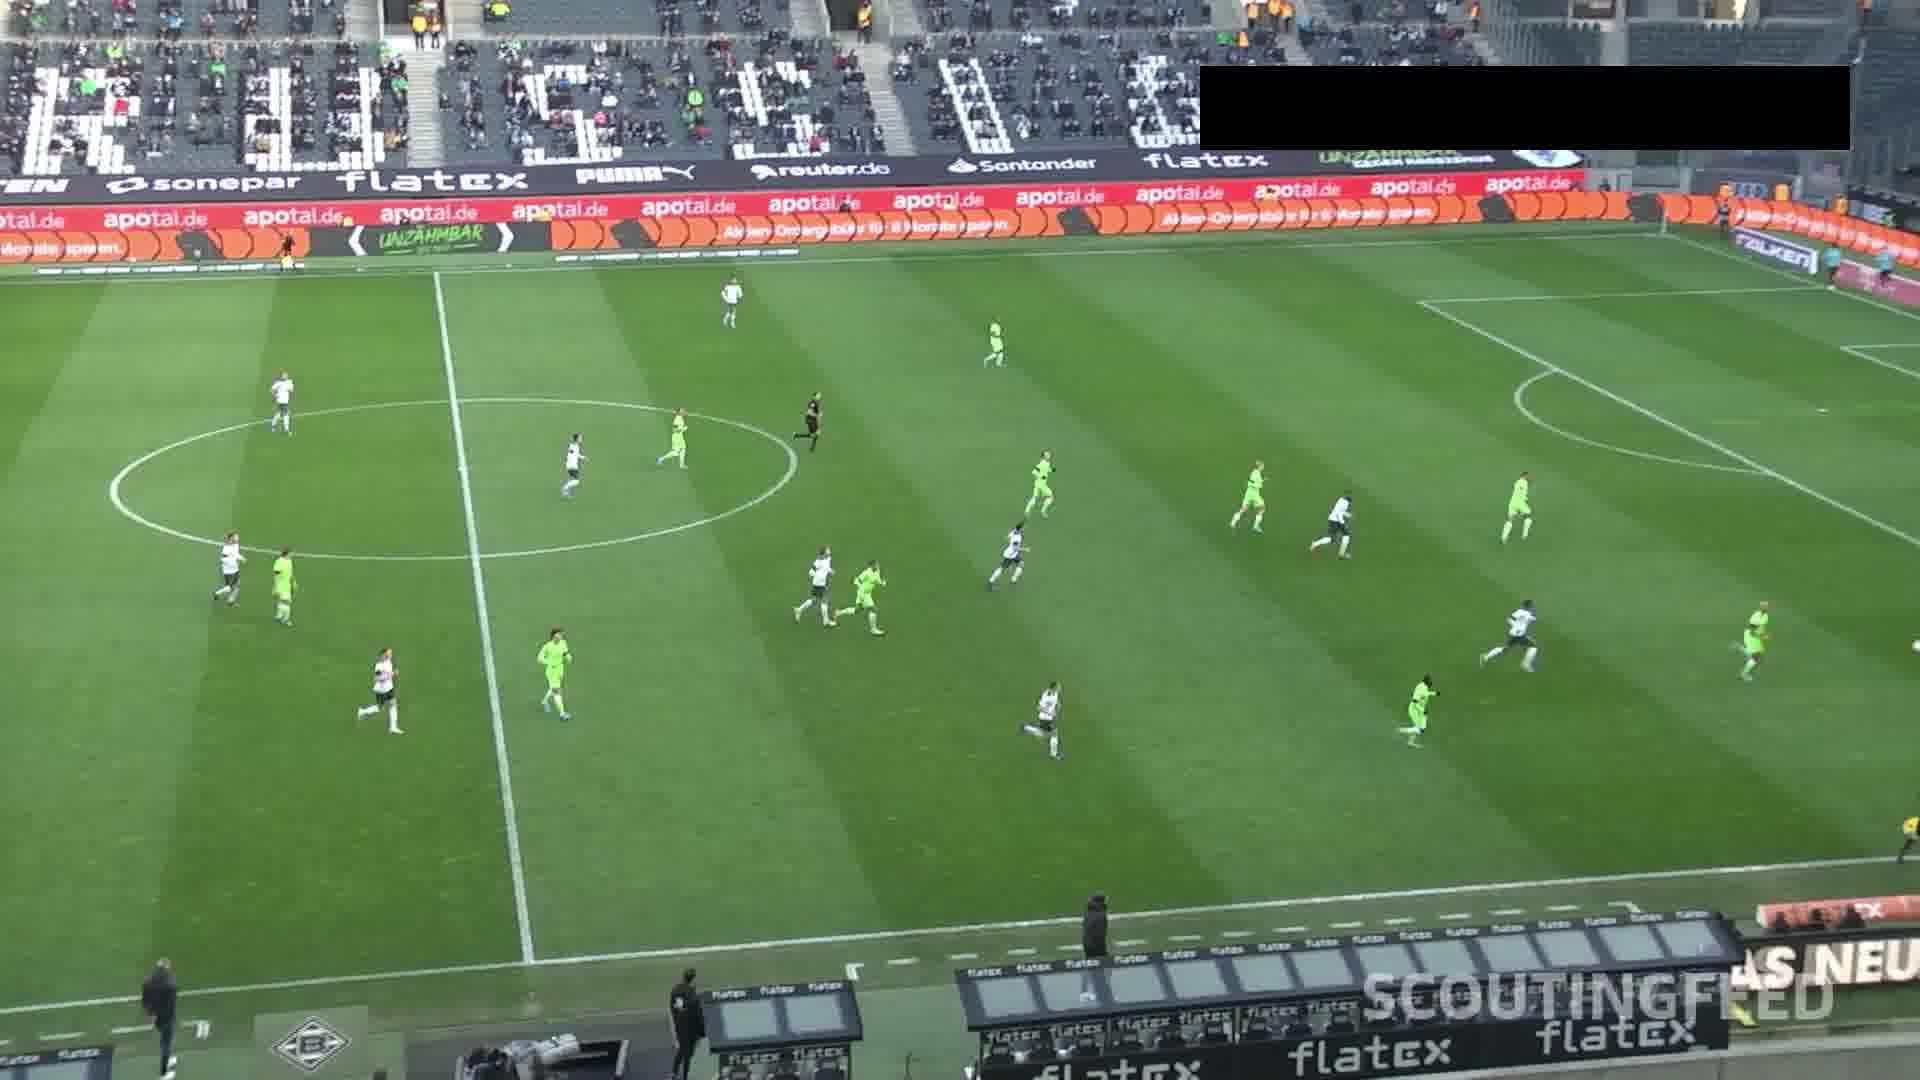football: (1911, 638, 1920, 654)
